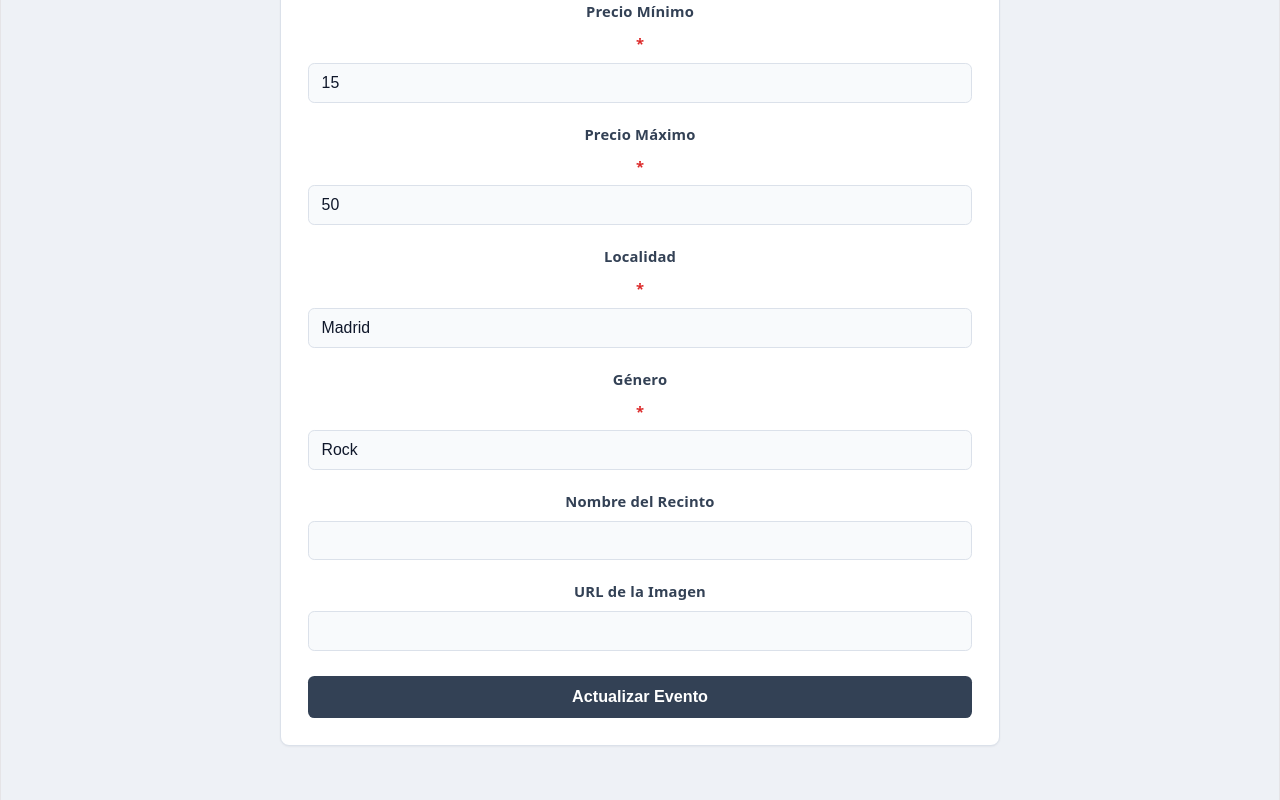
Test: EventFormComponent - Edición de evento existente › 15. Si la actualización falla, se muestra un mensaje de error específico de edición
(page scrolled)
Click the button "Actualizar Evento" at (640, 697), box [308,676,972,718]
(page scrolled)
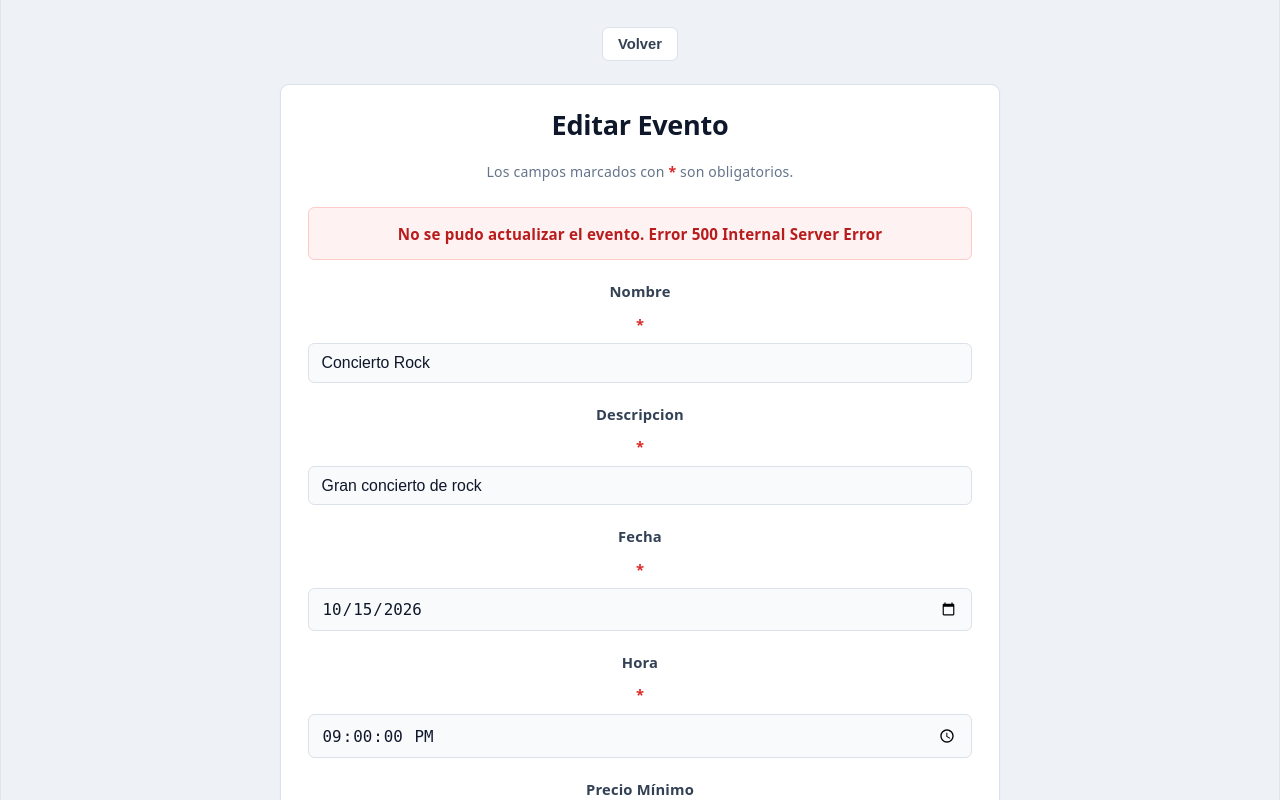
Now the text "No se pudo actualizar el evento. Error 500 Internal Server Error" is shown, box [308,207,972,260]
